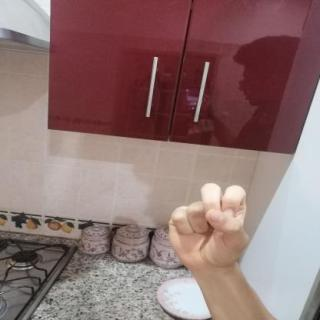QAAF: (156, 177, 262, 278)
